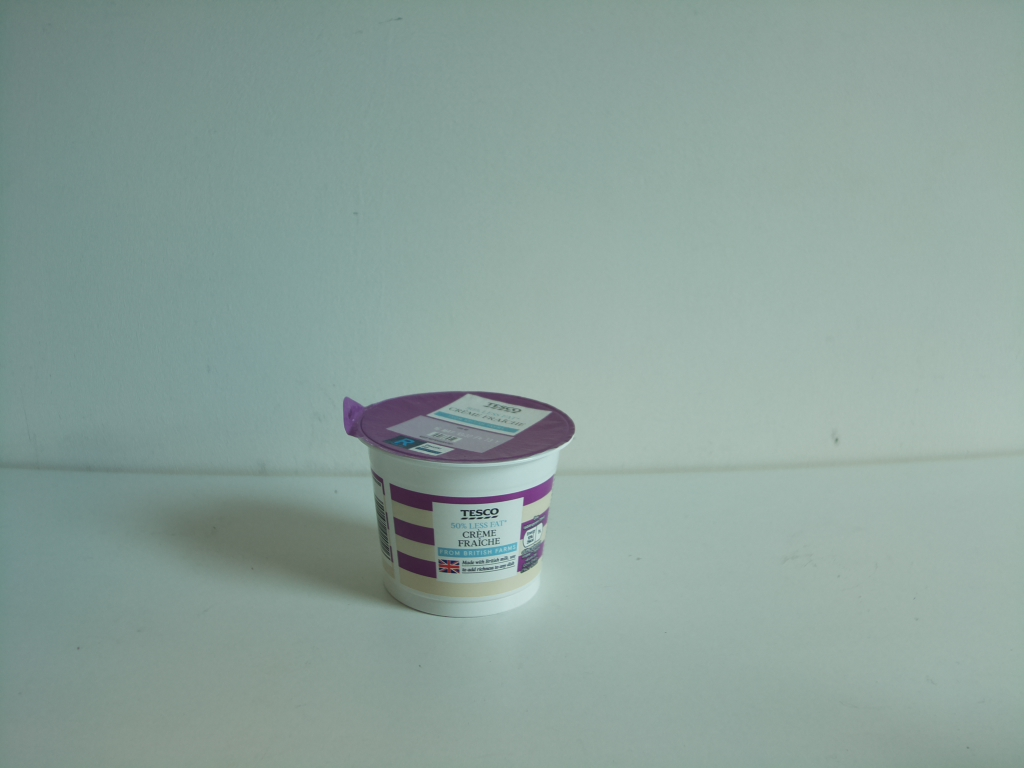cream: (336, 382, 582, 624)
